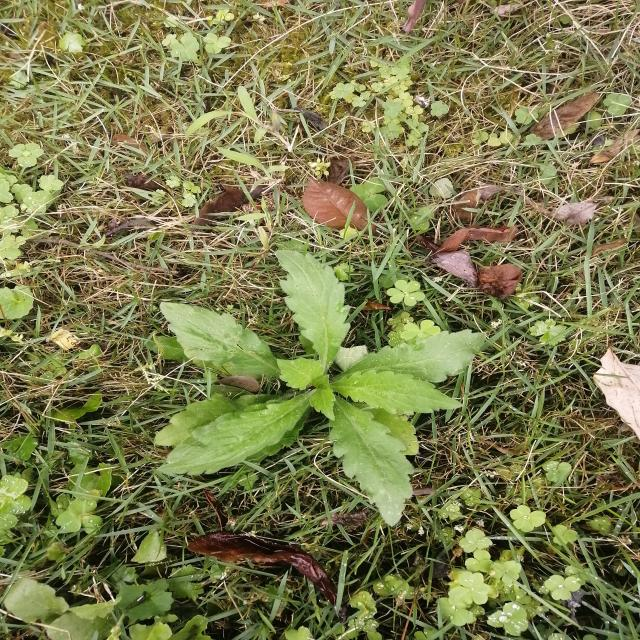horseweed: (175, 280, 492, 510)
